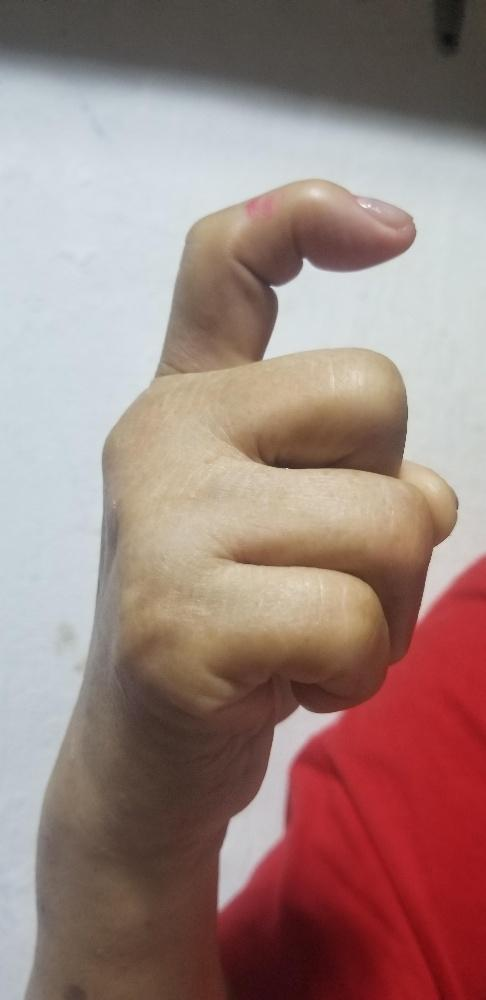x: (96, 174, 460, 711)
